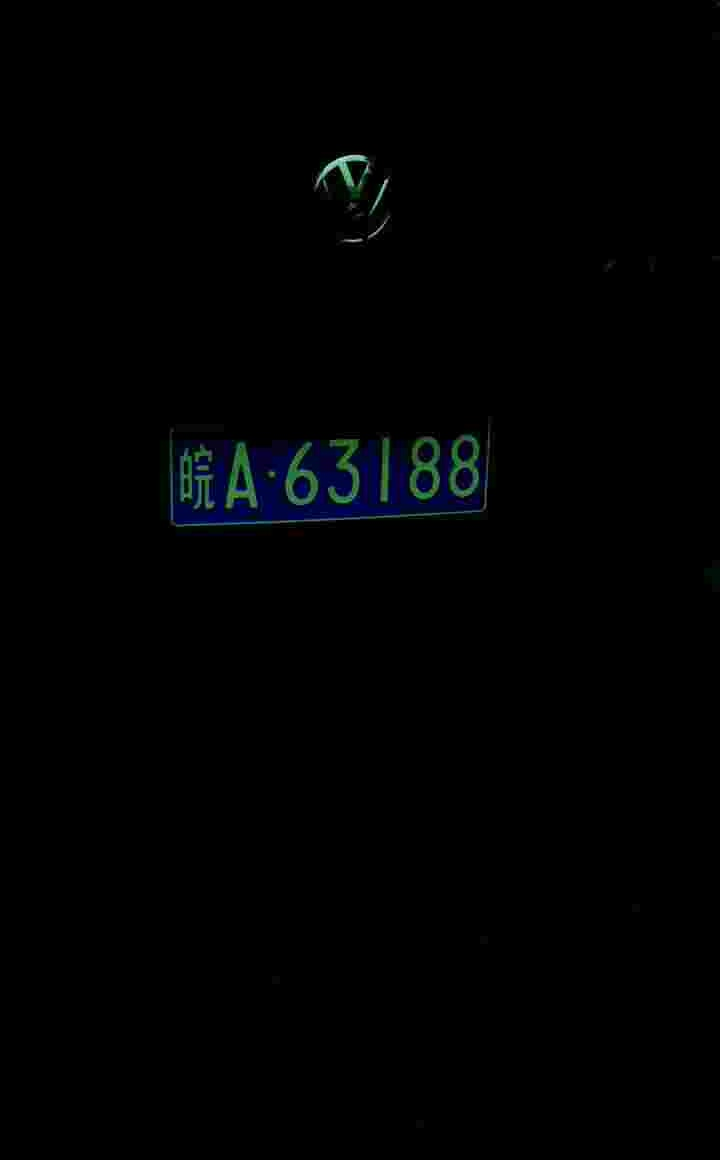license_plate: (172, 423, 505, 529)
